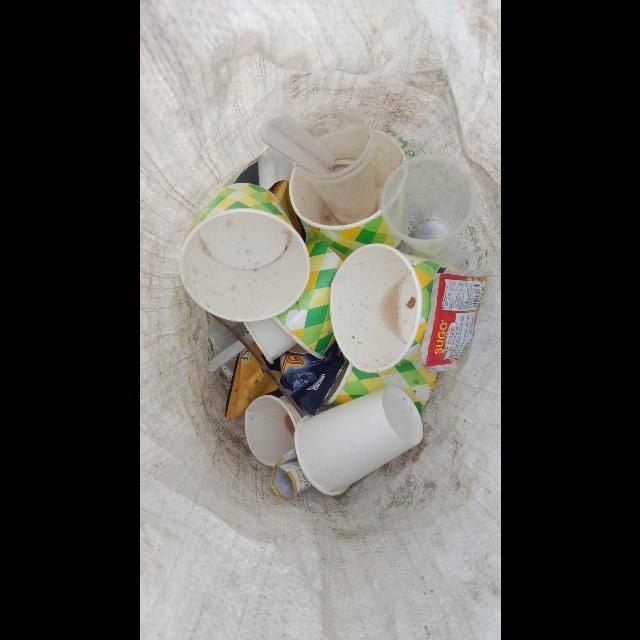paper: (178, 183, 309, 322), (329, 243, 450, 375), (289, 129, 406, 262), (293, 386, 423, 497), (271, 234, 342, 360), (323, 359, 435, 413), (244, 395, 301, 467), (242, 318, 296, 365)
plastic: (289, 102, 376, 225), (380, 155, 473, 256)
wrapper: (224, 340, 345, 418), (420, 267, 490, 373)
